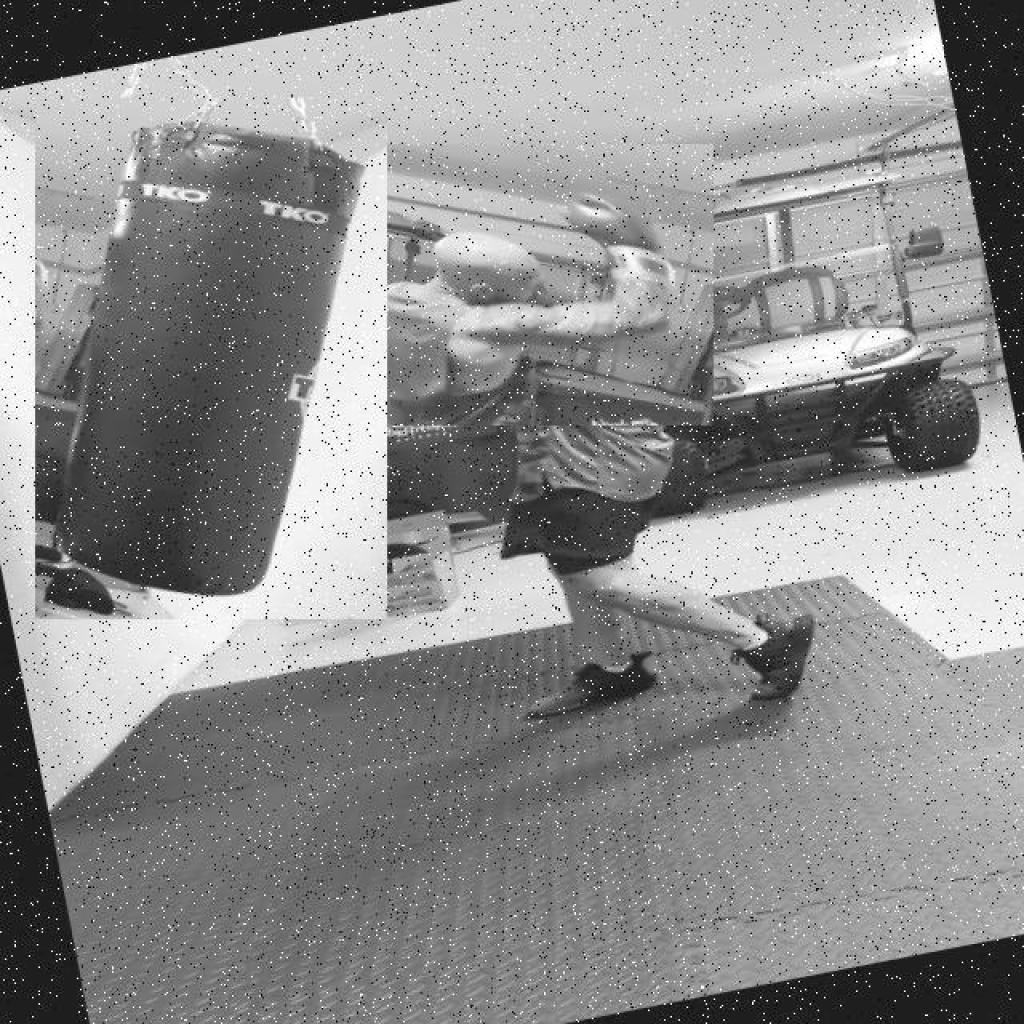bag: (36, 98, 386, 619)
uppercut: (336, 144, 713, 425)
